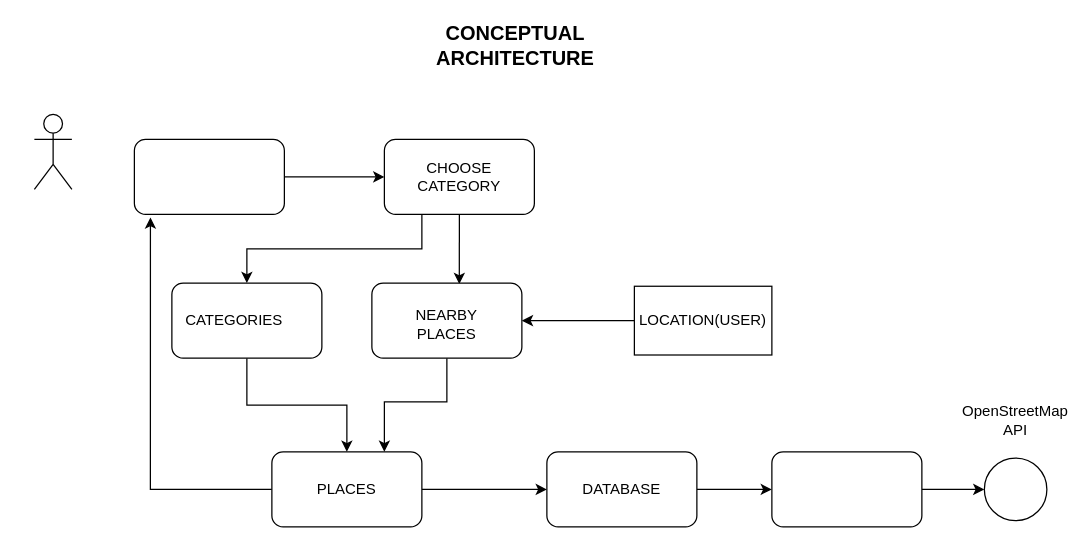
This 1090x549 diagram has some shape labels left out. The box of each missing label's shape, as (x1, y1, x2, y2) in pixels:
APP UI: (133, 138, 284, 214)
GEOGRAPHIC INFORMATION: (771, 451, 922, 527)
USER: (33, 113, 72, 189)
